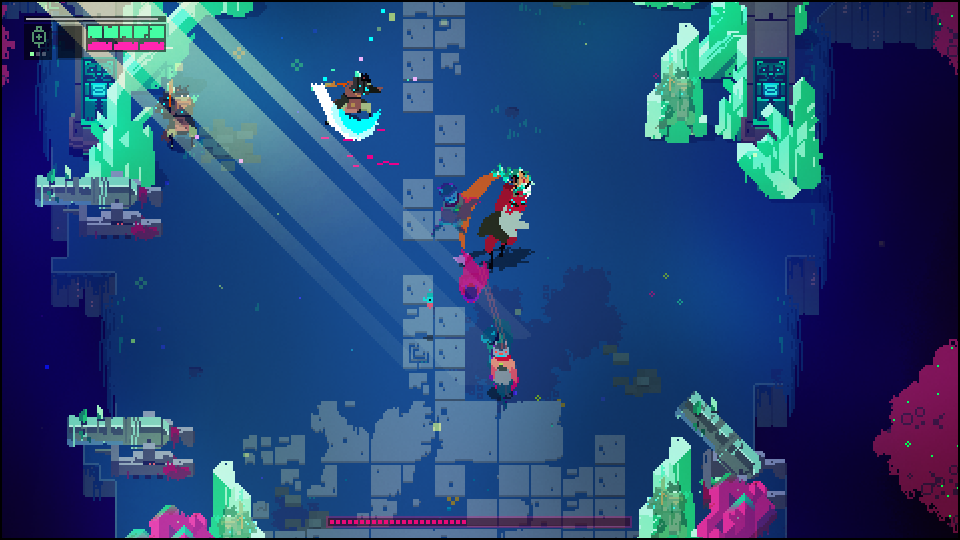hanged_man: (465, 163, 544, 277)
player: (488, 340, 520, 399)
